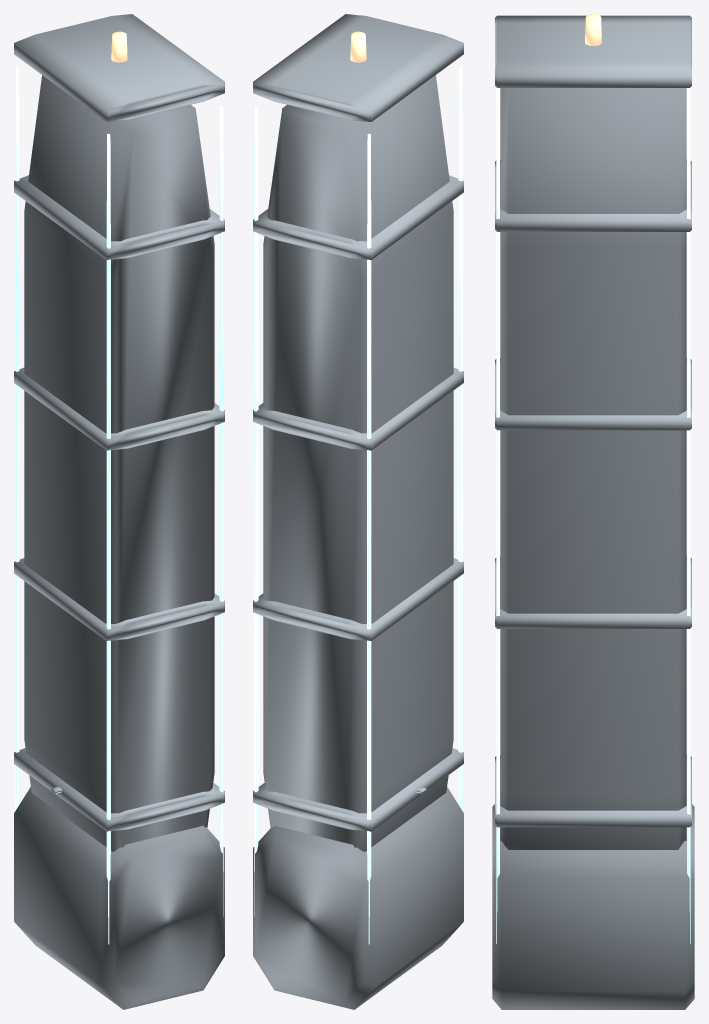
The model's file is props.glb.
The picture shows the model from 3 angles, left to right: view 1: azimuth 30°, elevation 25°; view 2: azimuth 150°, elevation 25°; view 3: azimuth 270°, elevation 25°; orthographic projection. The views are drawn at different scales.
Parts seen in each view (by area): view 1: pylon; view 2: pylon; view 3: pylon.
Boxes of the visible parts, x1=… form: pylon: x1=14, y1=14, x2=224, y2=1009; pylon: x1=253, y1=14, x2=463, y2=1009; pylon: x1=492, y1=14, x2=694, y2=1009.
Size of the model in its own units: 5.62 by 39.2 by 7.4.
